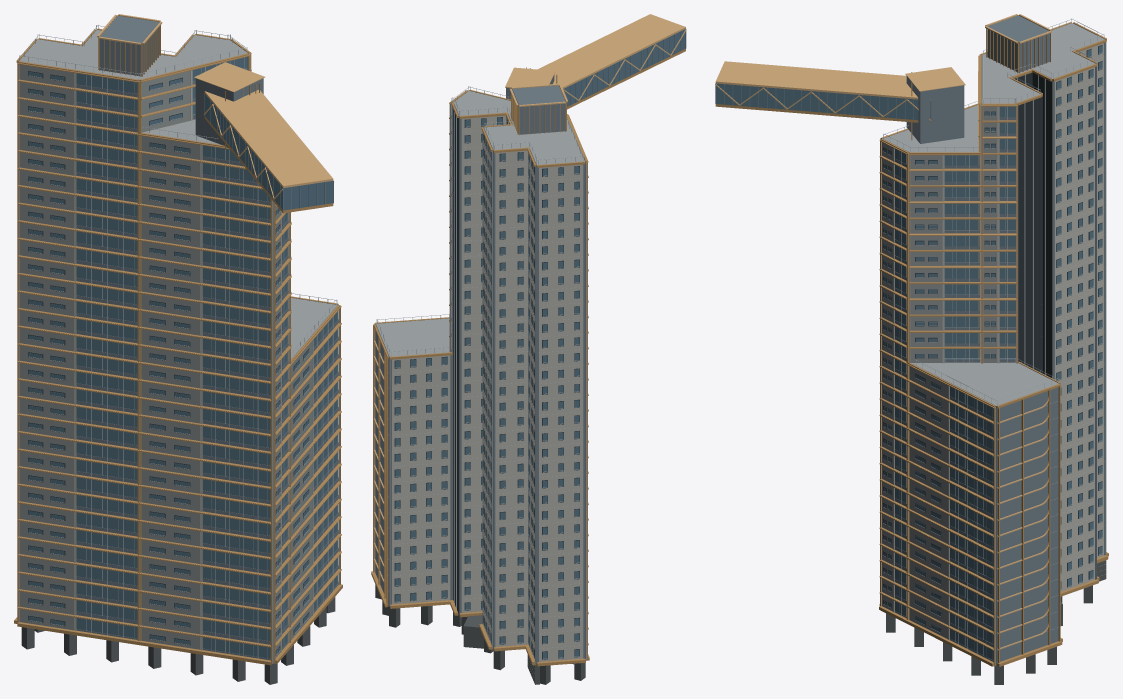
The model's file is bespoke-raemian-onepentas-101.glb.
The picture shows the model from 3 angles, left to right: view 1: azimuth 30°, elevation 25°; view 2: azimuth 150°, elevation 25°; view 3: azimuth 270°, elevation 25°; orthographic projection. The views are drawn at different scales.
Visible parts, largest first — view 1: bespoke-raemian-onepentas-101_export_batch_6, bespoke-raemian-onepentas-101_export_batch_10, bespoke-raemian-onepentas-101_export_batch_2, bespoke-raemian-onepentas-101_export_batch_4, bespoke-raemian-onepentas-101_export_batch_9, bespoke-raemian-onepentas-101_export_batch_3, bespoke-raemian-onepentas-101_export_batch_7, bespoke-raemian-onepentas-101_export_batch_5, bespoke-raemian-onepentas-101_export_batch_8, bespoke-raemian-onepentas-101_export_batch_1; view 2: bespoke-raemian-onepentas-101_export_batch_7, bespoke-raemian-onepentas-101_export_batch_6, bespoke-raemian-onepentas-101_export_batch_4, bespoke-raemian-onepentas-101_export_batch_8, bespoke-raemian-onepentas-101_export_batch_2, bespoke-raemian-onepentas-101_export_batch_3, bespoke-raemian-onepentas-101_export_batch_9, bespoke-raemian-onepentas-101_export_batch_5, bespoke-raemian-onepentas-101_export_batch_1; view 3: bespoke-raemian-onepentas-101_export_batch_6, bespoke-raemian-onepentas-101_export_batch_4, bespoke-raemian-onepentas-101_export_batch_7, bespoke-raemian-onepentas-101_export_batch_2, bespoke-raemian-onepentas-101_export_batch_10, bespoke-raemian-onepentas-101_export_batch_8, bespoke-raemian-onepentas-101_export_batch_9, bespoke-raemian-onepentas-101_export_batch_3, bespoke-raemian-onepentas-101_export_batch_5, bespoke-raemian-onepentas-101_export_batch_1.
Boxes of the visible parts, box(x1,y1,x2,y2) form: bespoke-raemian-onepentas-101_export_batch_6: box(28, 57, 338, 658); bespoke-raemian-onepentas-101_export_batch_10: box(19, 64, 312, 657); bespoke-raemian-onepentas-101_export_batch_2: box(14, 15, 342, 665); bespoke-raemian-onepentas-101_export_batch_4: box(76, 16, 338, 660); bespoke-raemian-onepentas-101_export_batch_9: box(17, 14, 341, 646); bespoke-raemian-onepentas-101_export_batch_3: box(19, 25, 337, 658); bespoke-raemian-onepentas-101_export_batch_7: box(19, 36, 339, 663); bespoke-raemian-onepentas-101_export_batch_5: box(19, 30, 337, 359); bespoke-raemian-onepentas-101_export_batch_8: box(28, 71, 309, 652); bespoke-raemian-onepentas-101_export_batch_1: box(21, 597, 335, 684); bespoke-raemian-onepentas-101_export_batch_7: box(375, 103, 586, 663); bespoke-raemian-onepentas-101_export_batch_6: box(375, 29, 685, 663); bespoke-raemian-onepentas-101_export_batch_4: box(375, 31, 686, 663); bespoke-raemian-onepentas-101_export_batch_8: box(394, 110, 579, 659); bespoke-raemian-onepentas-101_export_batch_2: box(371, 49, 685, 666); bespoke-raemian-onepentas-101_export_batch_3: box(375, 86, 584, 673); bespoke-raemian-onepentas-101_export_batch_9: box(374, 14, 686, 643); bespoke-raemian-onepentas-101_export_batch_5: box(376, 91, 584, 356); bespoke-raemian-onepentas-101_export_batch_1: box(375, 584, 585, 684); bespoke-raemian-onepentas-101_export_batch_6: box(716, 45, 1102, 664); bespoke-raemian-onepentas-101_export_batch_4: box(715, 15, 1106, 665); bespoke-raemian-onepentas-101_export_batch_7: box(880, 43, 1104, 665); bespoke-raemian-onepentas-101_export_batch_2: box(715, 15, 1108, 666); bespoke-raemian-onepentas-101_export_batch_10: box(882, 106, 997, 638); bespoke-raemian-onepentas-101_export_batch_8: box(883, 45, 1102, 633); bespoke-raemian-onepentas-101_export_batch_9: box(715, 14, 1051, 650); bespoke-raemian-onepentas-101_export_batch_3: box(883, 18, 1105, 659); bespoke-raemian-onepentas-101_export_batch_5: box(883, 23, 1104, 406); bespoke-raemian-onepentas-101_export_batch_1: box(886, 560, 1106, 684).
Size of the model in its own units: 51.88 by 108 by 67.62.
